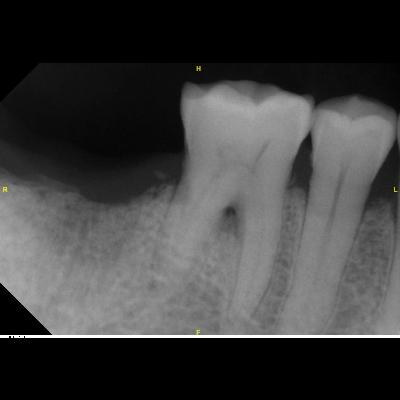tooth: (272, 92, 398, 334)
